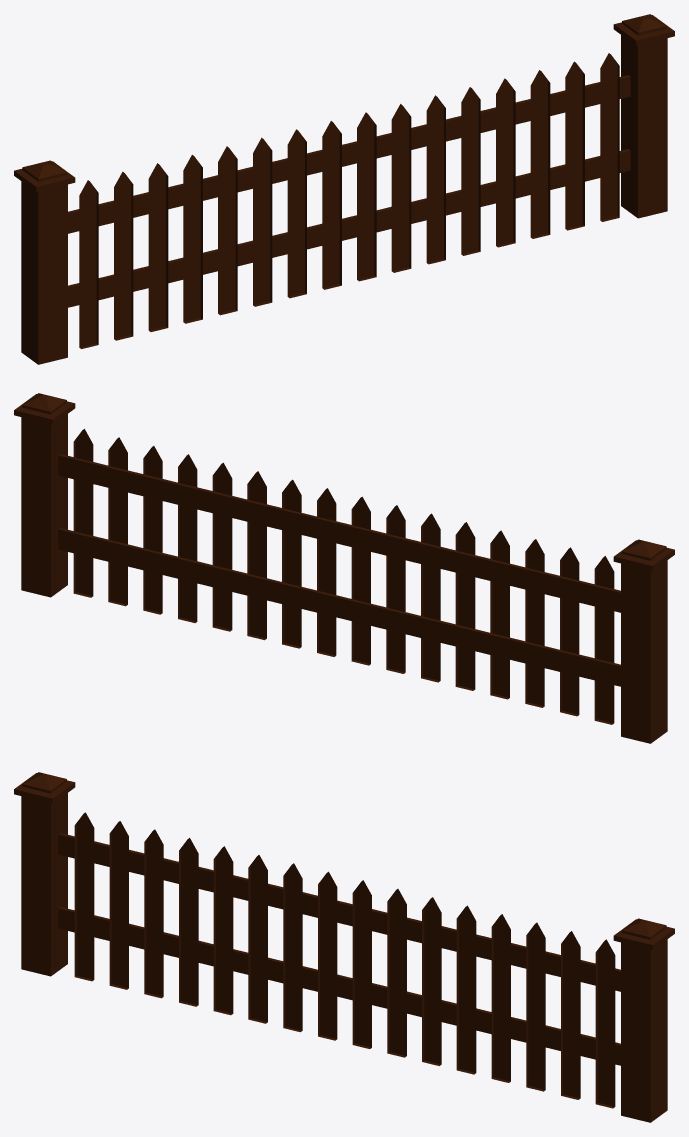
Rendered from Fence 2.fbx.
3 renders of one model, top to bottom at view 1: azimuth 30°, elevation 25°; view 2: azimuth 150°, elevation 25°; view 3: azimuth 330°, elevation 25°, orthographic.
Parts seen in each view (by area): view 1: Cube.004, Cube.002, Cube, Cube.003; view 2: Cube.004, Cube.002, Cube, Cube.003; view 3: Cube.004, Cube.002, Cube.003, Cube.
Part boxes in pixels (x1,y1,x2,y2): Cube.004: [79, 53, 619, 348]; Cube.002: [68, 75, 630, 307]; Cube: [14, 160, 75, 364]; Cube.003: [613, 14, 674, 218]; Cube.004: [73, 429, 614, 724]; Cube.002: [58, 454, 620, 686]; Cube: [613, 539, 674, 743]; Cube.003: [14, 393, 75, 597]; Cube.004: [74, 812, 615, 1108]; Cube.002: [58, 833, 620, 1065]; Cube.003: [613, 918, 674, 1122]; Cube: [14, 772, 75, 976].
Size of the model in its own units: 10.75 by 3.07 by 0.6538.
